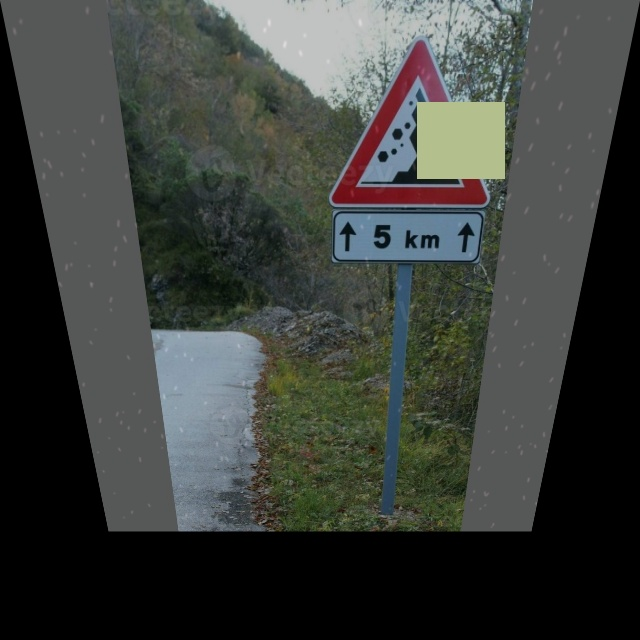Falling_Rocks: (329, 40, 508, 207)
